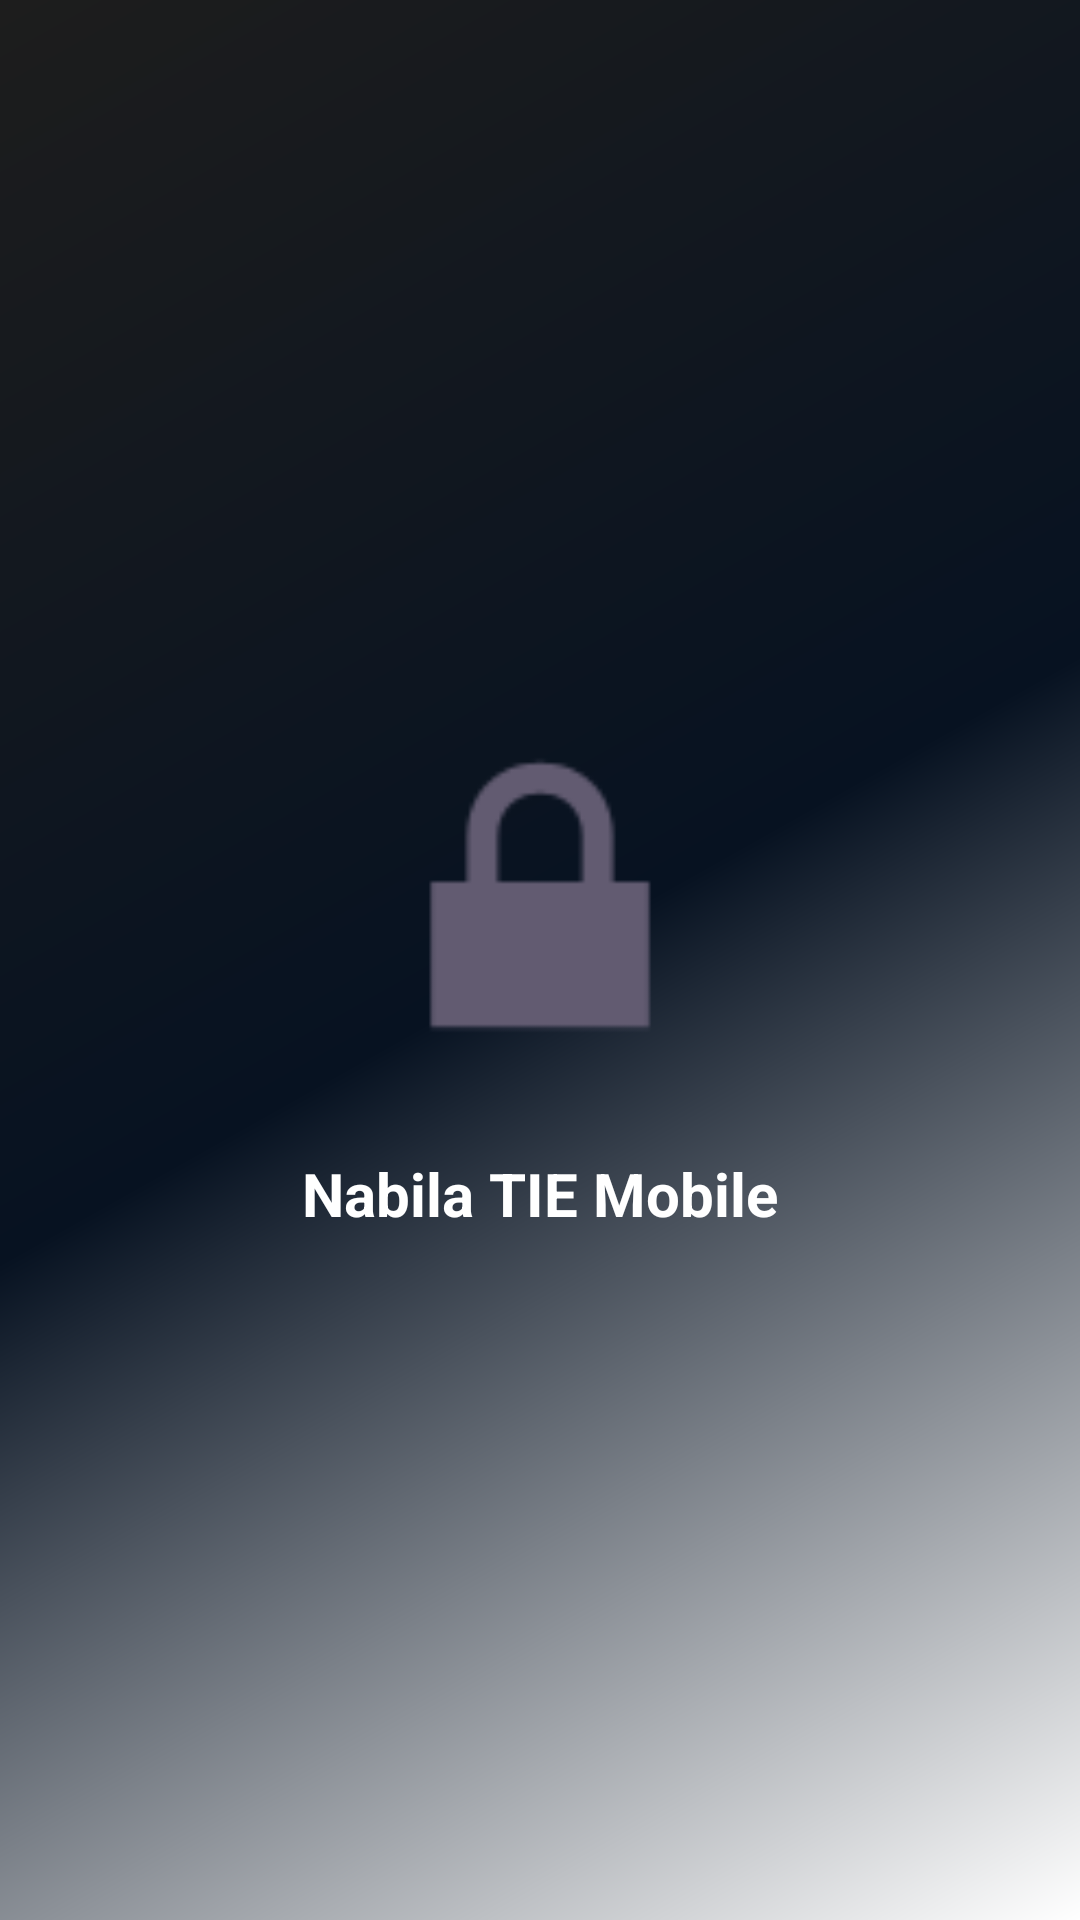

Point at icon controls on the screen. Image size 1080*1920, points as (x,y).
lock: (590,933)
